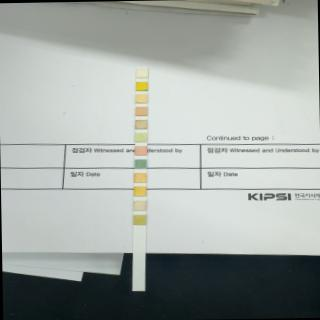mark: (133, 214, 145, 224), (134, 200, 146, 210), (134, 186, 146, 196), (134, 158, 146, 168), (134, 146, 146, 156), (134, 132, 146, 142), (134, 173, 146, 182), (135, 120, 147, 129), (135, 106, 147, 115), (135, 94, 147, 103), (136, 69, 147, 77), (136, 82, 146, 90)
